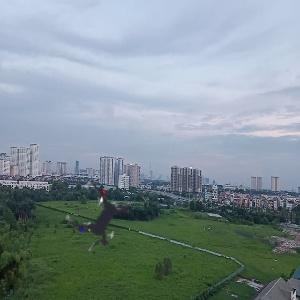drone: (41, 160, 163, 282)
